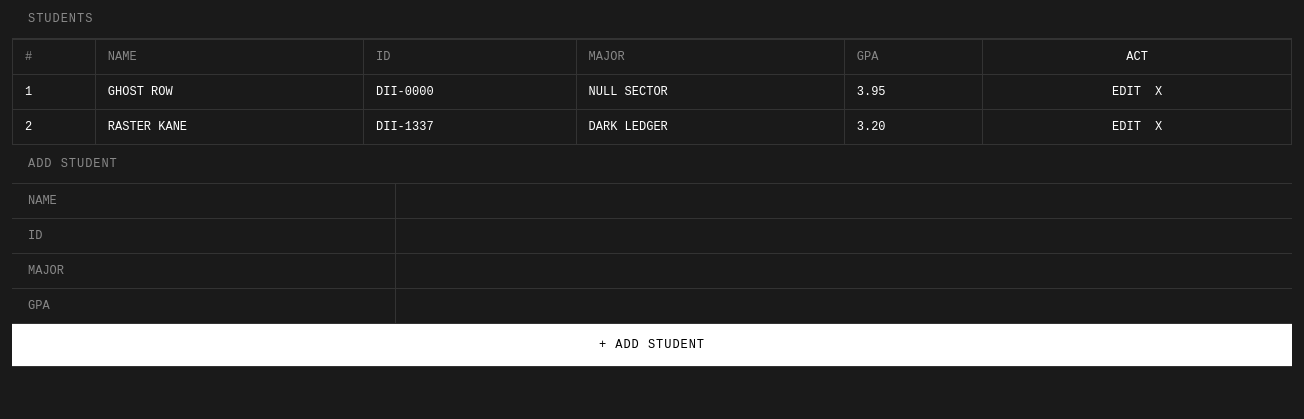
Test: AddStudentForm › pushes an optimistic list row (StudentTable) before POST completes
Expected: the text "GHOST ROW" is shown, [95, 74, 364, 110]
In the field labelled "NAME": [844, 201] box [396, 184, 1292, 218], type "Shadow Lane"
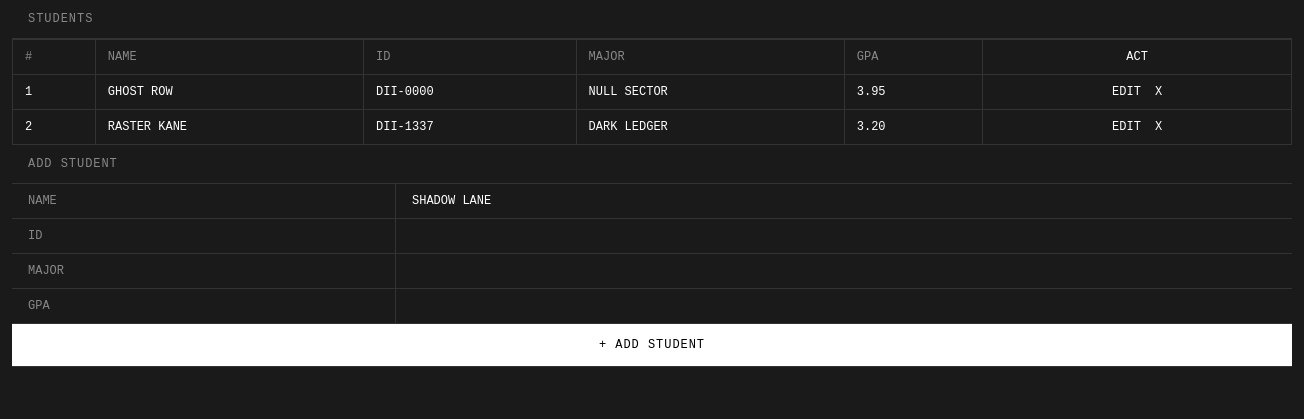
In the field labelled "ID": [844, 236] box [396, 219, 1292, 253], type "DII-SHADOW"
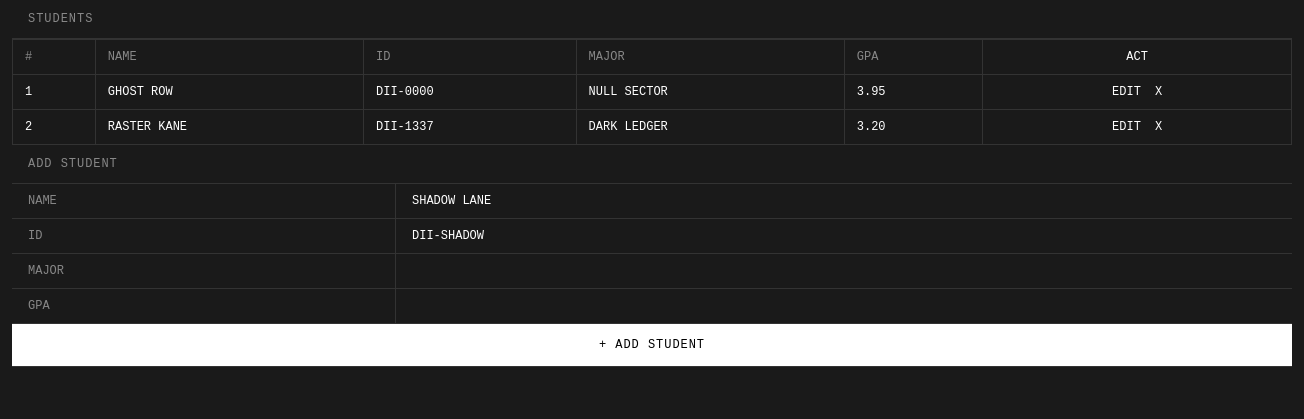
In the field labelled "MAJOR": [844, 271] box [396, 254, 1292, 288], type "Edge Compute"
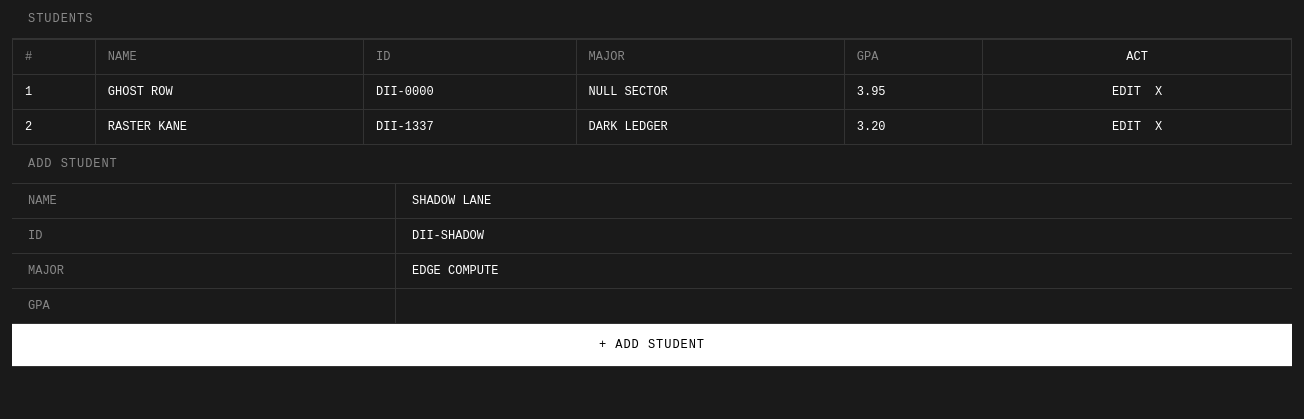
In the field labelled "GPA": [844, 306] box [396, 289, 1292, 323], type "3.7"
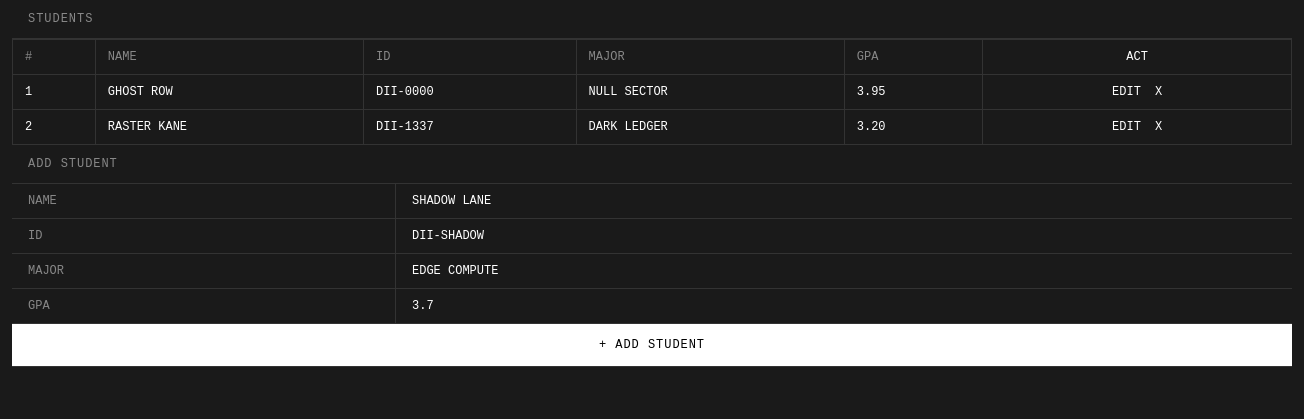
Click the button "+ ADD STUDENT": [652, 345] box [12, 324, 1292, 366]
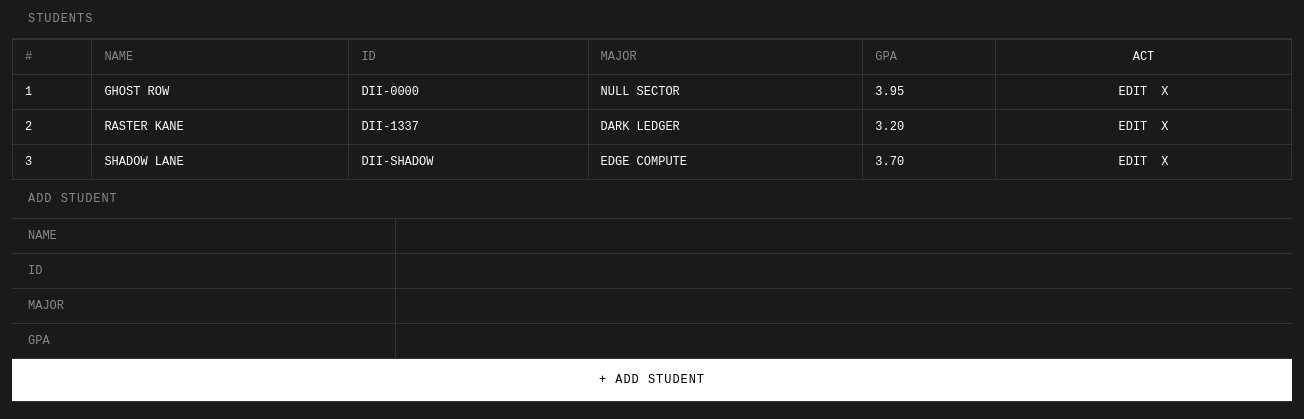
Result: the text "SHADOW LANE" is shown at [92, 144, 349, 180]
